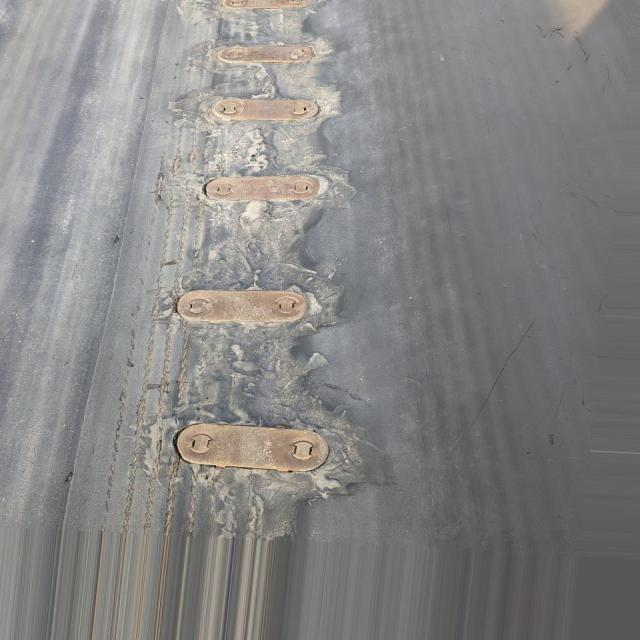patch work: (136, 0, 395, 525)
